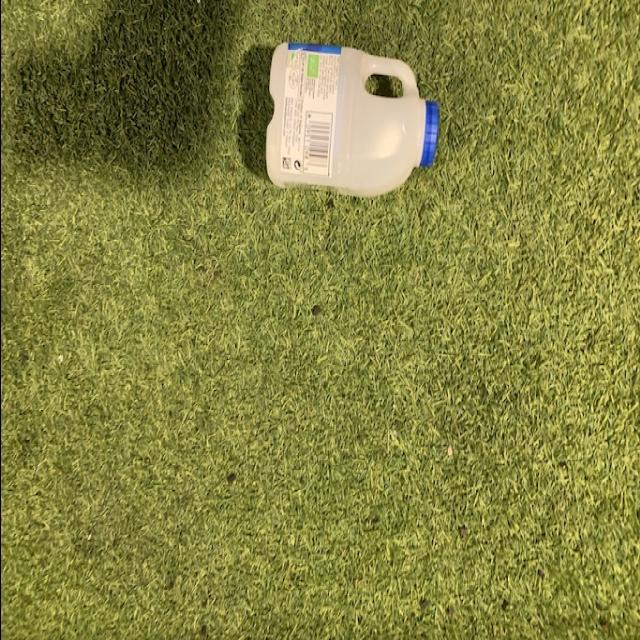litter: (260, 37, 438, 205)
